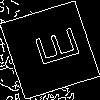E: (24, 25, 81, 71)
